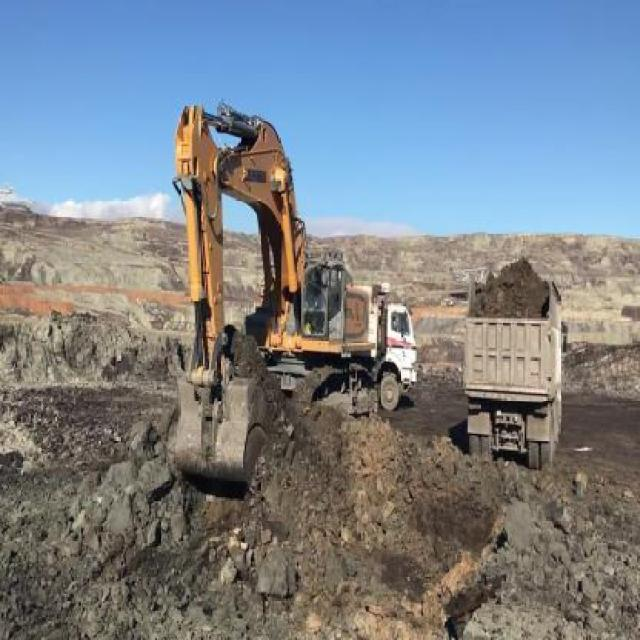dump_truck: (462, 256, 561, 469), (353, 280, 418, 409)
excavator: (151, 98, 375, 493)
